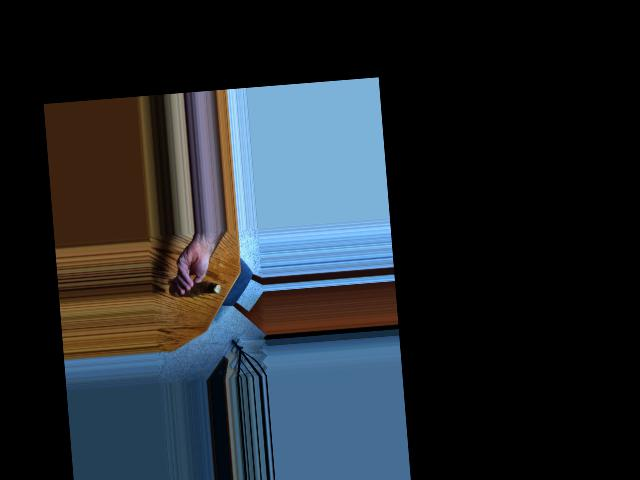sweet_potato: (171, 277, 218, 302)
